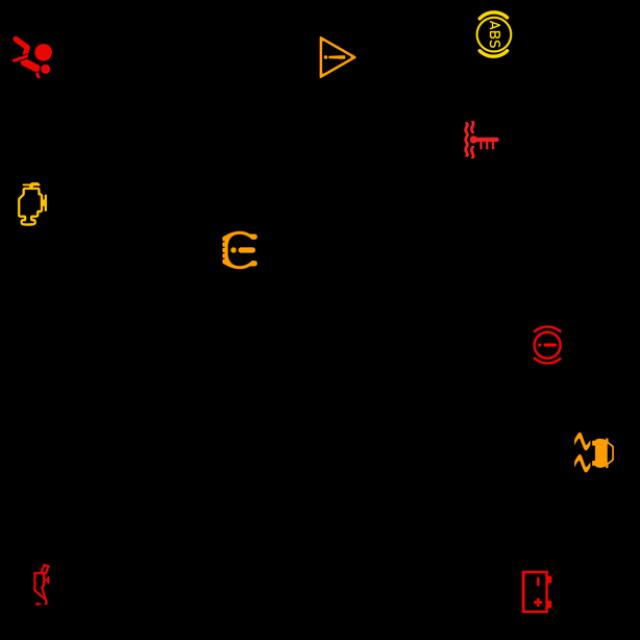Anti Lock Braking System: (468, 8, 520, 60)
Braking System Issue: (521, 318, 573, 370)
Charging System Issue: (511, 565, 563, 617)
Check Engine: (6, 178, 58, 230)
Electronic Stability Problem -ESP-: (568, 426, 620, 478)
Engine Overheating Warning Light: (456, 112, 508, 164)
Low Engine Oil Warning Light: (16, 558, 68, 610)
Low Tire Pressure Warning Light: (213, 223, 266, 275)
Master warning light: (312, 31, 364, 82)
SRS-Airbag: (6, 31, 58, 82)
